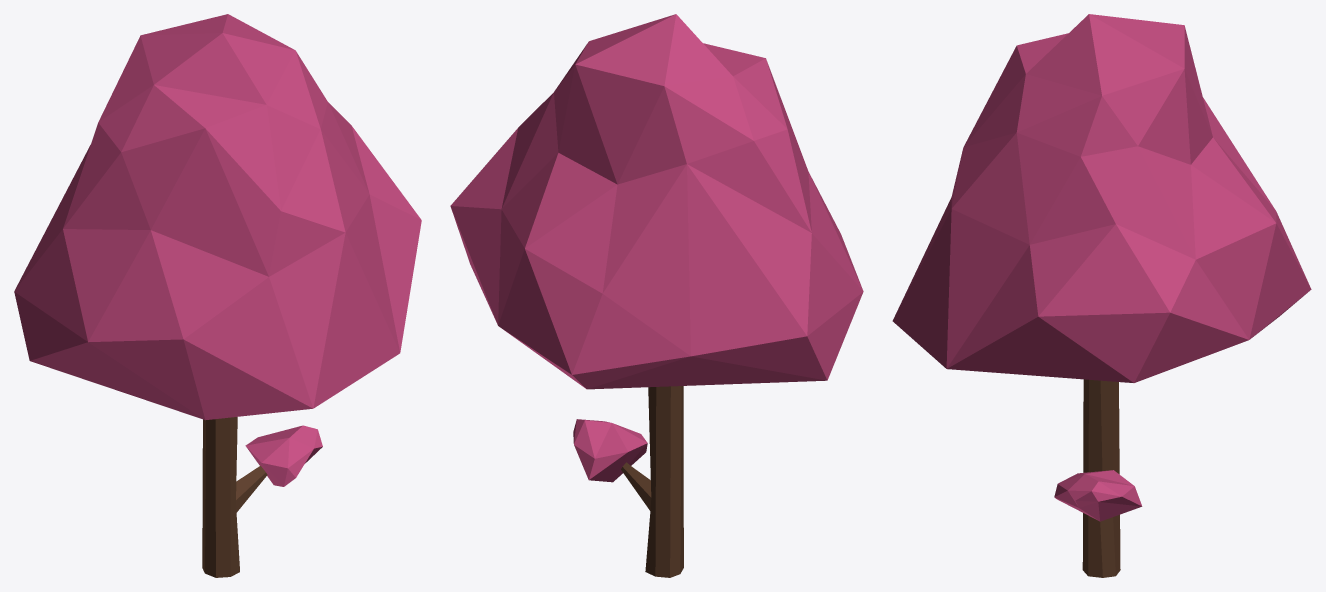
The model's file is Tree_45_Pink.fbx.
3 views of the same model, side by side, from view 1: azimuth 30°, elevation 25°; view 2: azimuth 150°, elevation 25°; view 3: azimuth 270°, elevation 25° (orthographic).
Parts seen in each view (by area): view 1: Tree_45_Pink_Part_1, Tree_45_Pink_Part_3, Tree_45_Pink_Part_2; view 2: Tree_45_Pink_Part_1, Tree_45_Pink_Part_3, Tree_45_Pink_Part_2; view 3: Tree_45_Pink_Part_1, Tree_45_Pink_Part_3, Tree_45_Pink_Part_2.
Boxes of the visible parts, bbox=[...] form: Tree_45_Pink_Part_1: bbox=[14, 14, 421, 420]; Tree_45_Pink_Part_3: bbox=[202, 417, 267, 577]; Tree_45_Pink_Part_2: bbox=[245, 425, 322, 486]; Tree_45_Pink_Part_1: bbox=[450, 14, 863, 389]; Tree_45_Pink_Part_3: bbox=[621, 386, 683, 577]; Tree_45_Pink_Part_2: bbox=[573, 419, 647, 482]; Tree_45_Pink_Part_1: bbox=[892, 14, 1311, 382]; Tree_45_Pink_Part_3: bbox=[1082, 379, 1120, 577]; Tree_45_Pink_Part_2: bbox=[1054, 470, 1142, 521].
Bounding box in the file's own units: 549 × 807 × 554.
